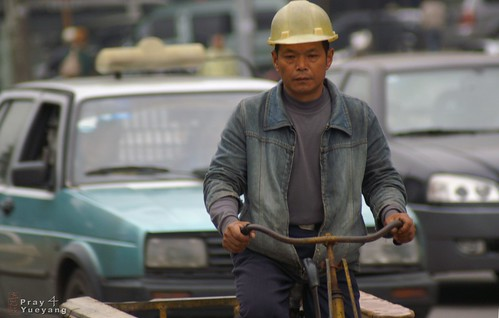person hardhat: (205, 1, 426, 318)
